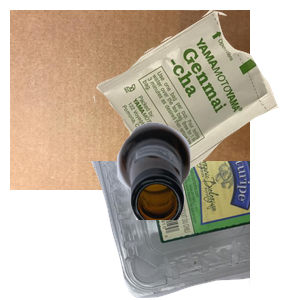cardboard: (10, 10, 250, 190)
glass: (115, 120, 300, 300)
plastic: (23, 161, 263, 300)
trash: (91, 10, 300, 186)
